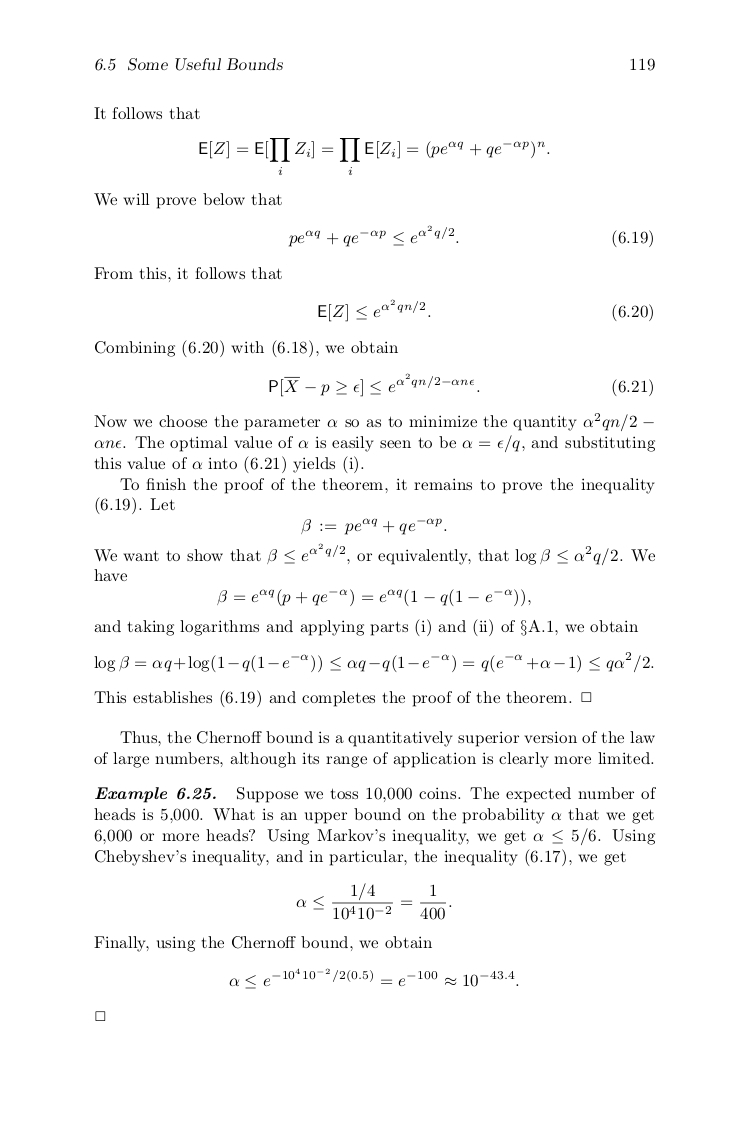formula: (199, 138, 549, 174), (269, 372, 652, 397), (288, 224, 652, 248), (318, 298, 652, 322), (229, 967, 518, 989), (217, 588, 530, 607), (296, 882, 451, 920), (301, 517, 446, 535)
